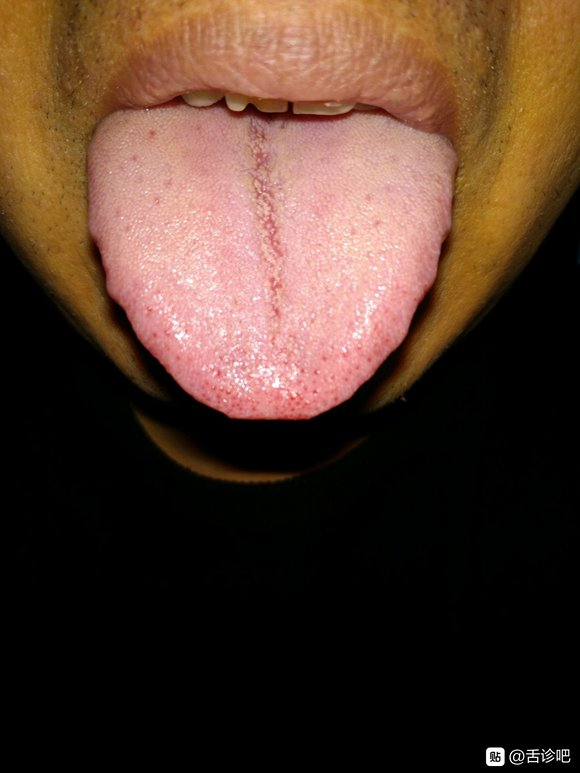baitaishe: (86, 96, 459, 421)
hongdianshe: (295, 363, 309, 379), (146, 127, 157, 142)
